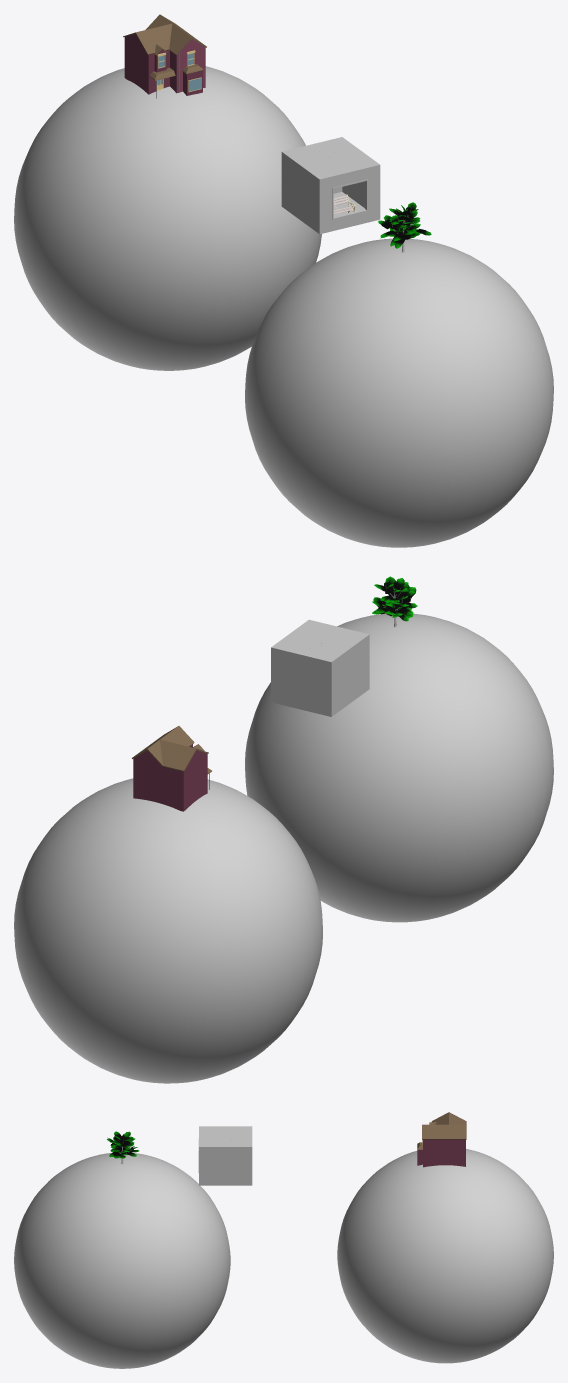
Rendered from Bench-Scene.fbx.
The picture shows the model from 3 angles, top to bottom: view 1: azimuth 30°, elevation 25°; view 2: azimuth 150°, elevation 25°; view 3: azimuth 270°, elevation 25°; orthographic projection. The views are drawn at different scales.
Visible parts, largest first — view 1: Mundo-Arvore, Mundo-Casa, Base-Bench, House-Base, Telhado, Tree; view 2: Mundo-Casa, Mundo-Arvore, Base-Bench, House-Base, Telhado, Tree; view 3: Mundo-Arvore, Mundo-Casa, Base-Bench, House-Base, Telhado, Tree.
Boxes of the visible parts, x1,y1,x2,y2 form: Mundo-Arvore: (245,238,553,547); Mundo-Casa: (14,66,321,370); Base-Bench: (281,137,380,234); House-Base: (124,34,205,98); Telhado: (123,14,206,80); Tree: (378,202,431,252); Mundo-Casa: (14,778,322,1083); Mundo-Arvore: (245,613,553,922); Base-Bench: (271,619,369,716); House-Base: (133,744,209,811); Telhado: (132,726,211,774); Tree: (372,576,417,627); Mundo-Arvore: (14,1153,230,1368); Mundo-Casa: (337,1149,553,1363); Base-Bench: (198,1126,252,1185); House-Base: (417,1139,465,1167); Telhado: (417,1112,466,1149); Tree: (107,1131,139,1164).
Bounding box in the file's own units: 3359 × 4042 × 8369.
